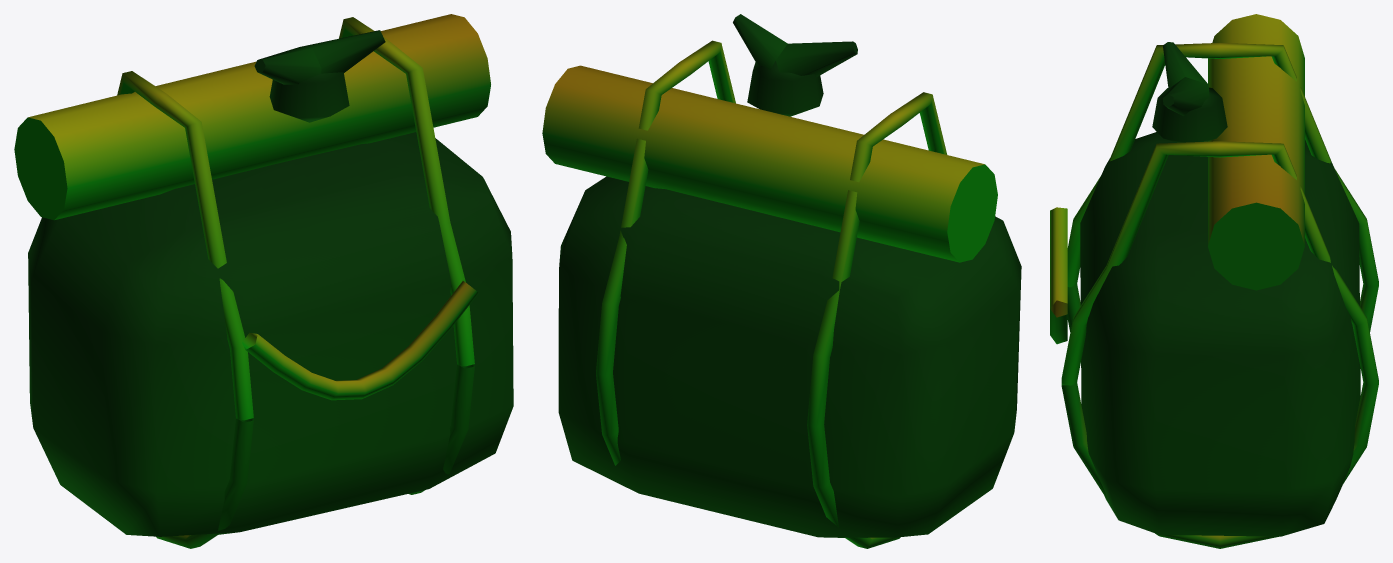
File: travel_bundle.glb
The picture shows the model from 3 angles, left to right: view 1: azimuth 30°, elevation 25°; view 2: azimuth 150°, elevation 25°; view 3: azimuth 270°, elevation 25°; orthographic projection. The views are drawn at different scales.
Parts seen in each view (by area): view 1: travel_bundle; view 2: travel_bundle; view 3: travel_bundle.
Part boxes in pixels (box(x1,y1,x2,y2)): travel_bundle: box(14, 14, 513, 548); travel_bundle: box(542, 14, 1021, 548); travel_bundle: box(1050, 14, 1378, 548).
Size of what is drawn, in the model's own units: 0.414 by 0.4489 by 0.3051.
